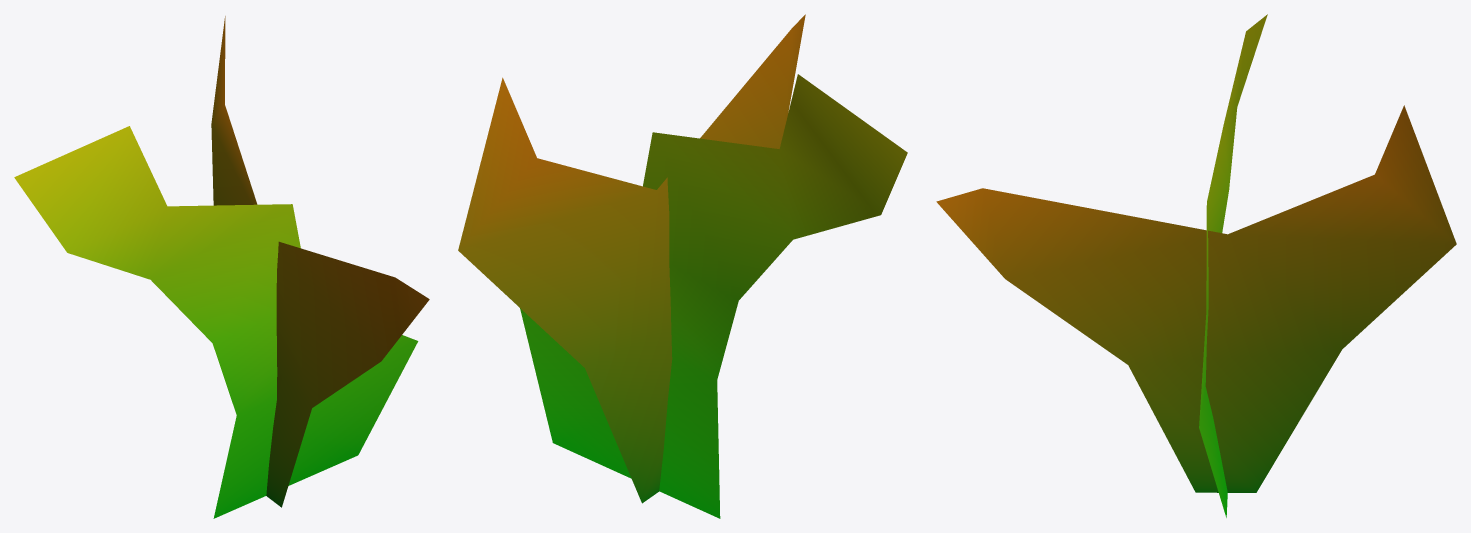
File: Var11Hi42.fbx
3 renders of one model, left to right at view 1: azimuth 30°, elevation 25°; view 2: azimuth 150°, elevation 25°; view 3: azimuth 270°, elevation 25°, orthographic. The views are drawn at different scales.
Visible parts, largest first — view 1: bend1; view 2: bend1; view 3: bend1.
Part boxes in pixels (left/top/right/bottom): bend1: left=14, top=16, right=429, bottom=518; bend1: left=458, top=14, right=907, bottom=518; bend1: left=936, top=14, right=1456, bottom=517.
Bounding box in the file's own units: 1.35 × 1.45 × 1.63.
